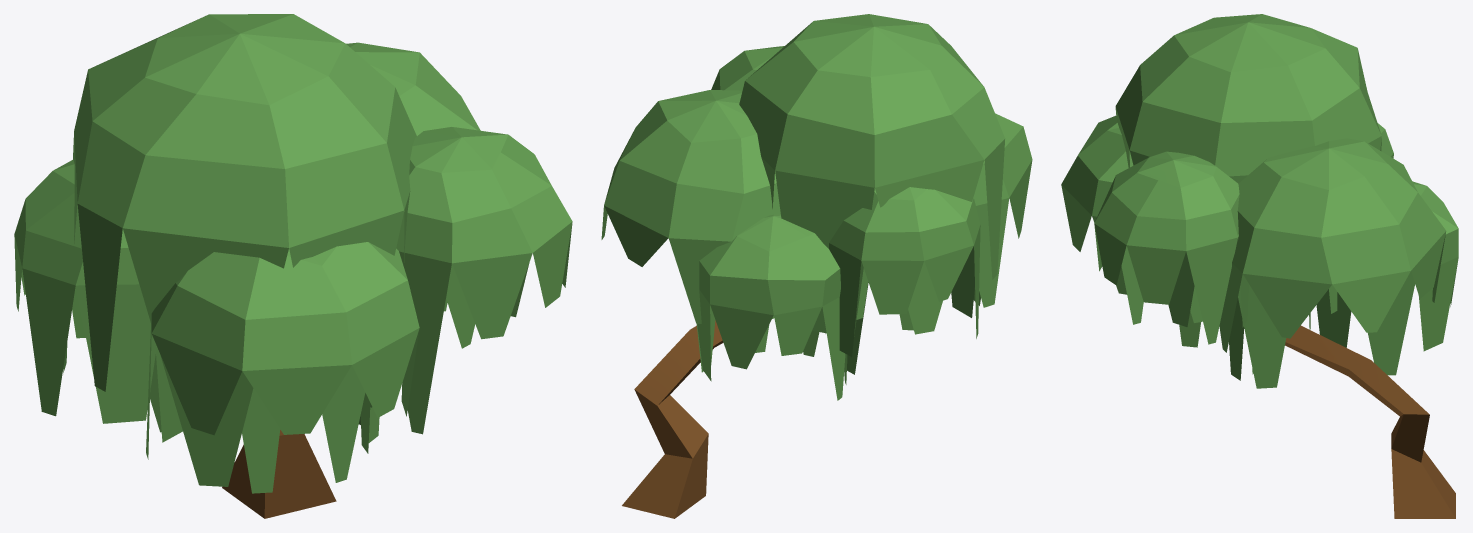
File: willow2.fbx
The picture shows the model from 3 angles, left to right: view 1: azimuth 30°, elevation 25°; view 2: azimuth 150°, elevation 25°; view 3: azimuth 270°, elevation 25°; orthographic projection. The views are drawn at different scales.
Parts seen in each view (by area): view 1: Cube.007; view 2: Cube.007; view 3: Cube.007.
Boxes of the visible parts, bbox=[...] form: Cube.007: bbox=[14, 14, 572, 518]; Cube.007: bbox=[601, 14, 1032, 518]; Cube.007: bbox=[1061, 14, 1458, 518].
Size of the model in its own units: 555 by 667 by 563.
